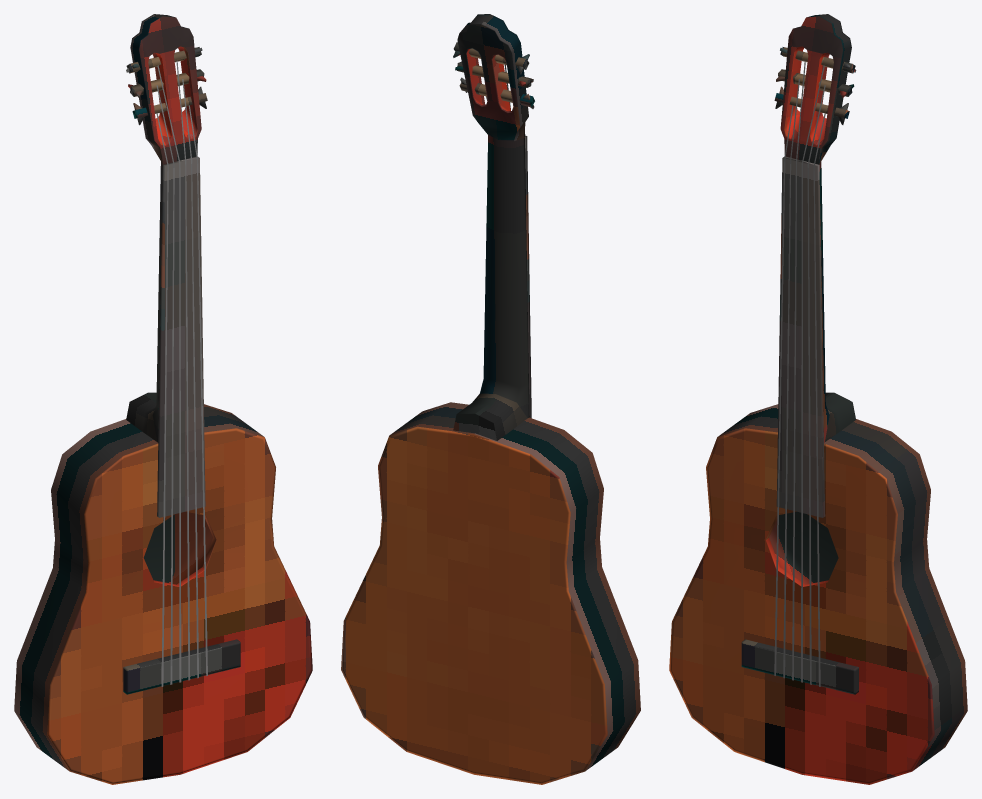
The model's file is objects_un_plan_guitar01.gltf.
3 renders of one model, left to right at view 1: azimuth 30°, elevation 25°; view 2: azimuth 150°, elevation 25°; view 3: azimuth 330°, elevation 25°, orthographic.
Visible parts, largest first — view 1: objects_un_plan_guitar01_01_mesh_shape:objects_un_plan_guita; view 2: objects_un_plan_guitar01_01_mesh_shape:objects_un_plan_guita; view 3: objects_un_plan_guitar01_01_mesh_shape:objects_un_plan_guita.
Boxes of the visible parts, x1,y1,x2,y2 form: objects_un_plan_guitar01_01_mesh_shape:objects_un_plan_guita: [14, 14, 312, 784]; objects_un_plan_guitar01_01_mesh_shape:objects_un_plan_guita: [341, 14, 640, 784]; objects_un_plan_guitar01_01_mesh_shape:objects_un_plan_guita: [669, 14, 967, 784].
Bounding box in the file's own units: 0.4148 × 1.11 × 0.102.
Materials: 1 (1 with a texture image).
